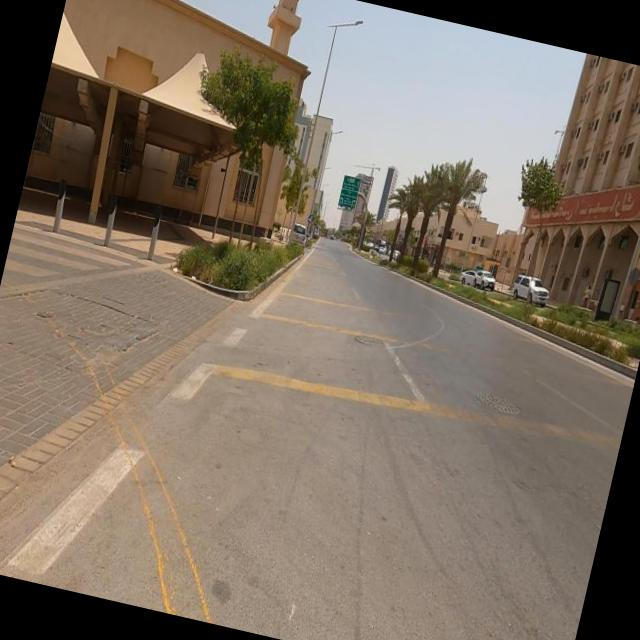debris: (477, 109, 640, 292)
